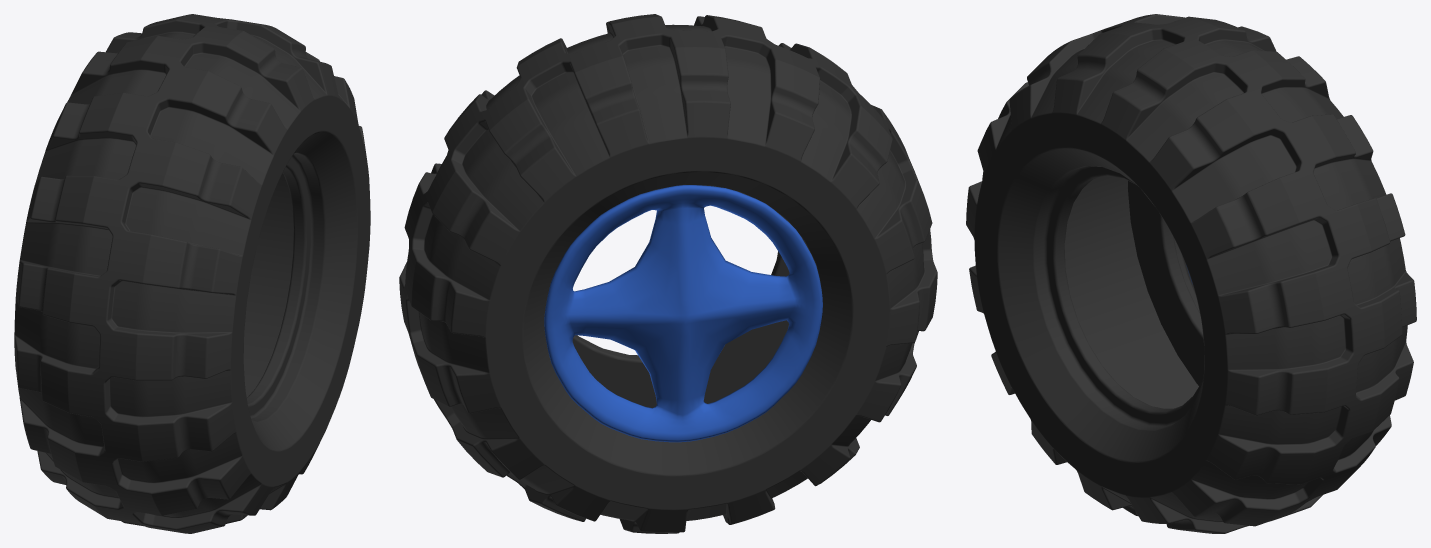
The model's file is Offroad-llantainfizq.glb.
The picture shows the model from 3 angles, left to right: view 1: azimuth 30°, elevation 25°; view 2: azimuth 150°, elevation 25°; view 3: azimuth 270°, elevation 25°; orthographic projection. The views are drawn at different scales.
Parts seen in each view (by area): view 1: Circle003_Material #508_0; view 2: Circle003_Material #508_0; view 3: Circle003_Material #508_0.
Boxes of the visible parts, box(x1,y1,x2,y2) form: Circle003_Material #508_0: box(14, 14, 370, 533); Circle003_Material #508_0: box(399, 14, 937, 533); Circle003_Material #508_0: box(966, 14, 1416, 533).
Bounding box in the file's own units: 53.24 × 56.87 × 49.32.
